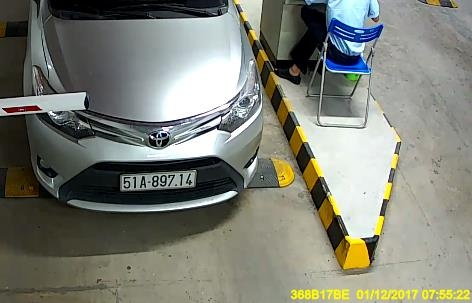plate: (113, 162, 209, 195)
